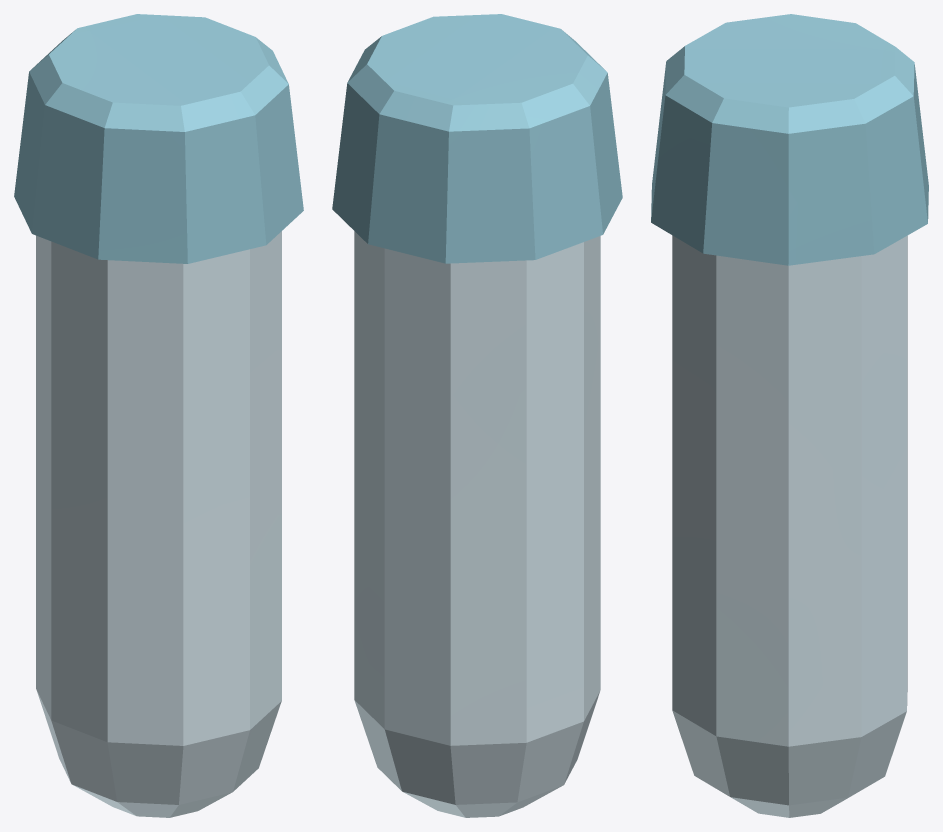
3 views of the same model, side by side, from view 1: azimuth 30°, elevation 25°; view 2: azimuth 150°, elevation 25°; view 3: azimuth 270°, elevation 25° (orthographic).
Parts seen in each view (by area): view 1: test_tube_4; view 2: test_tube_4; view 3: test_tube_4.
Part boxes in pixels (bbox=[...]): test_tube_4: bbox=[14, 14, 303, 817]; test_tube_4: bbox=[332, 14, 622, 817]; test_tube_4: bbox=[651, 14, 928, 817].
Size of the model in its own units: 0.0299 by 0.0831 by 0.0285.
Materials: 1 (1 with a texture image).
